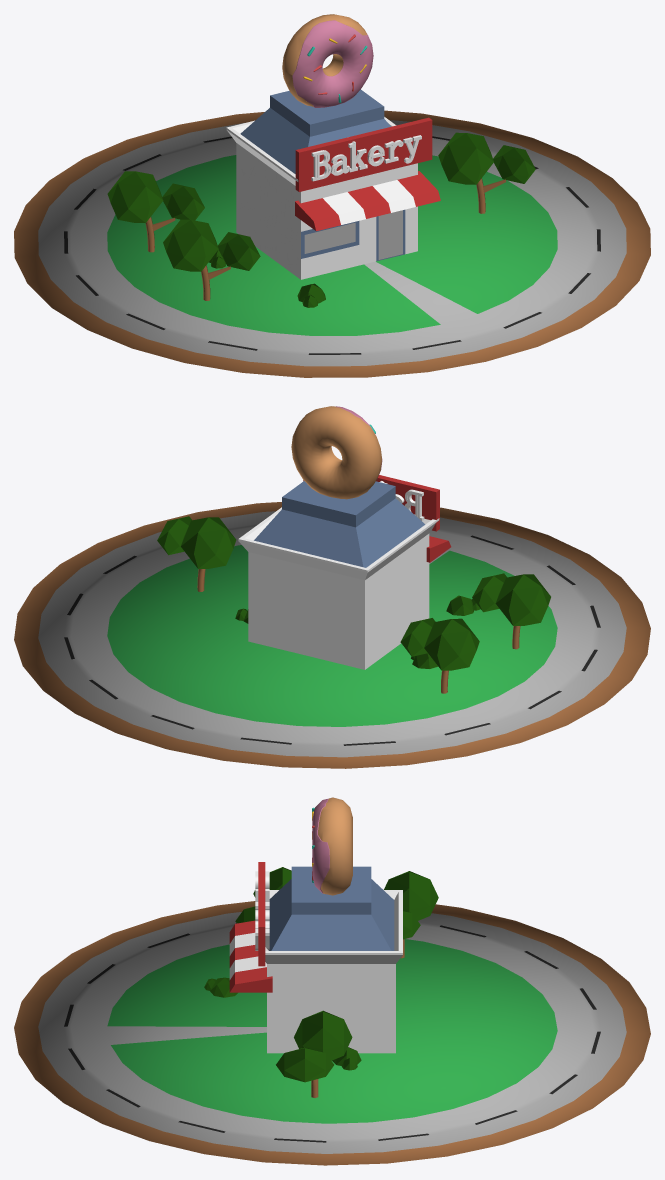
3 renders of one model, top to bottom at view 1: azimuth 30°, elevation 25°; view 2: azimuth 150°, elevation 25°; view 3: azimuth 270°, elevation 25°, orthographic.
Parts seen in each view (by area): view 1: Sphere001, Box001; view 2: Sphere001, Box001; view 3: Sphere001, Box001.
Part boxes in pixels (x1=…): Sphere001: x1=14, y1=110, x2=650, y2=377; Box001: x1=226, y1=14, x2=440, y2=279; Sphere001: x1=14, y1=502, x2=650, y2=768; Box001: x1=238, y1=406, x2=451, y2=669; Sphere001: x1=14, y1=867, x2=650, y2=1165; Box001: x1=229, y1=797, x2=402, y2=1053.
Bounding box in the file's own units: 144 × 59.25 × 144.
